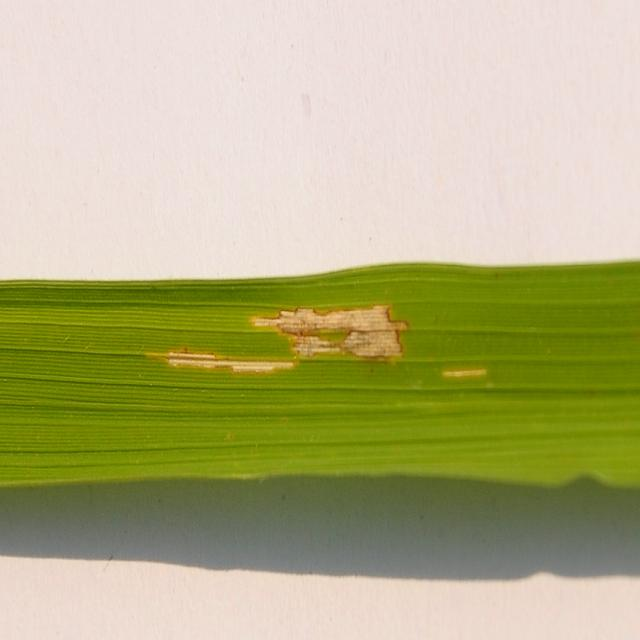leaf blight: (138, 290, 412, 386), (435, 348, 495, 397)
